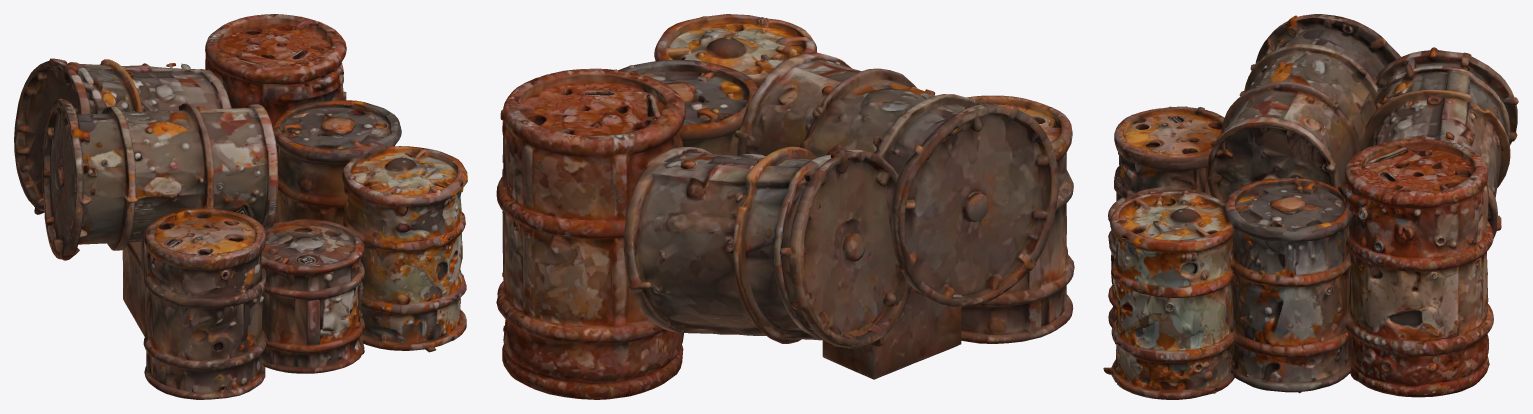
File: Bariles.fbx
3 views of the same model, side by side, from view 1: azimuth 30°, elevation 25°; view 2: azimuth 150°, elevation 25°; view 3: azimuth 270°, elevation 25° (orthographic). The views are drawn at different scales.
Visible parts, largest first — view 1: tripo_node_4f271ff2; view 2: tripo_node_4f271ff2; view 3: tripo_node_4f271ff2.
Part boxes in pixels (bbox=[...]): tripo_node_4f271ff2: bbox=[14, 14, 467, 399]; tripo_node_4f271ff2: bbox=[496, 14, 1074, 399]; tripo_node_4f271ff2: bbox=[1103, 14, 1518, 399].
Size of the model in its own units: 95.55 by 97.89 by 60.7.
1 material, 1 textured.
